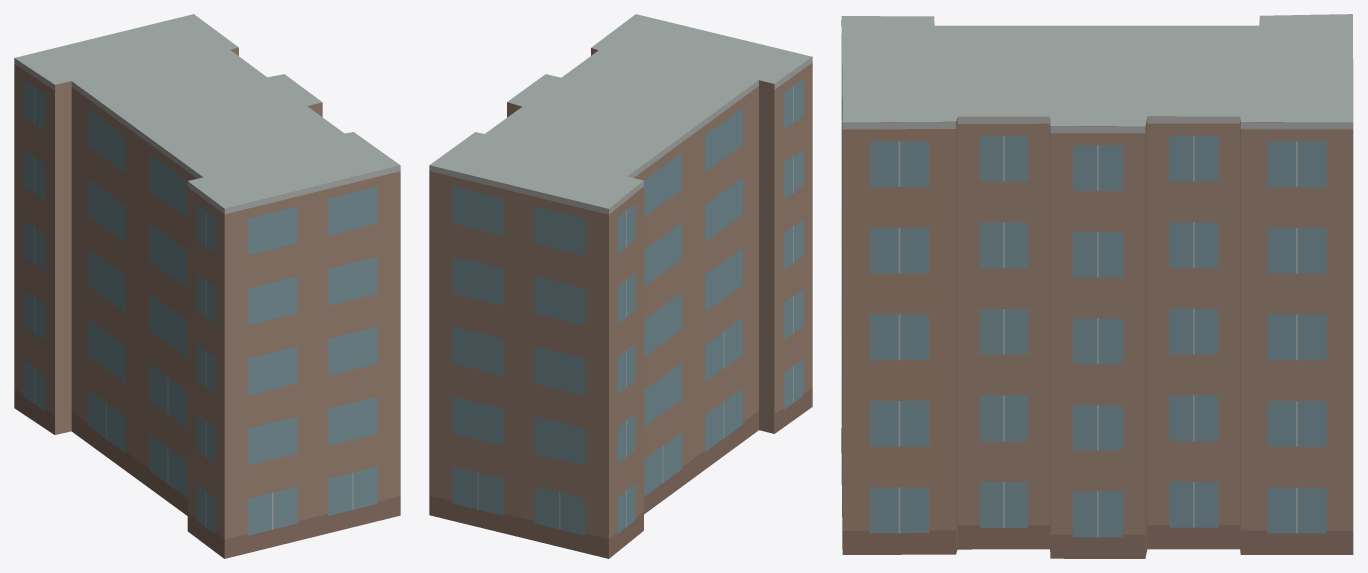
The model's file is survey-upis-32988620.glb.
3 renders of one model, left to right at view 1: azimuth 30°, elevation 25°; view 2: azimuth 150°, elevation 25°; view 3: azimuth 270°, elevation 25°, orthographic. The views are drawn at different scales.
Parts seen in each view (by area): view 1: survey-upis-32988620.tmp; view 2: survey-upis-32988620.tmp; view 3: survey-upis-32988620.tmp.
Part boxes in pixels (x1=…): survey-upis-32988620.tmp: x1=14, y1=14, x2=400, y2=558; survey-upis-32988620.tmp: x1=429, y1=14, x2=812, y2=558; survey-upis-32988620.tmp: x1=841, y1=14, x2=1353, y2=558.
Bounding box in the file's own units: 8.18 × 14.7 × 15.77.
